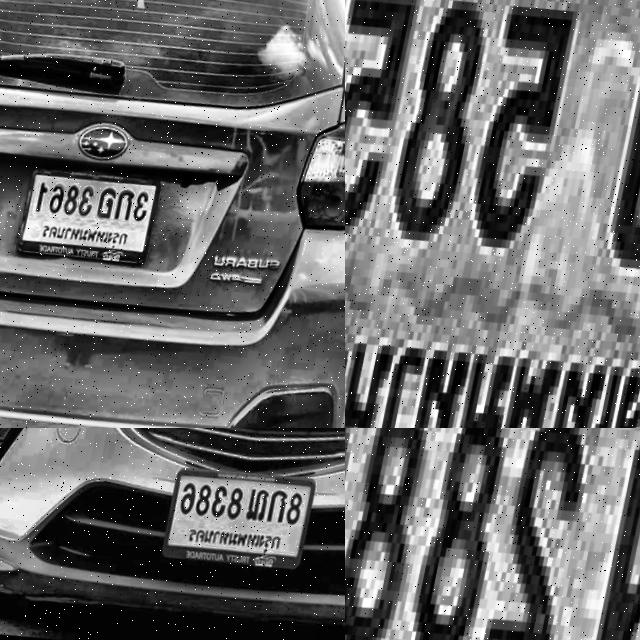license-plate: (345, 0, 640, 428), (345, 428, 640, 640), (159, 455, 319, 590), (10, 157, 164, 286)
